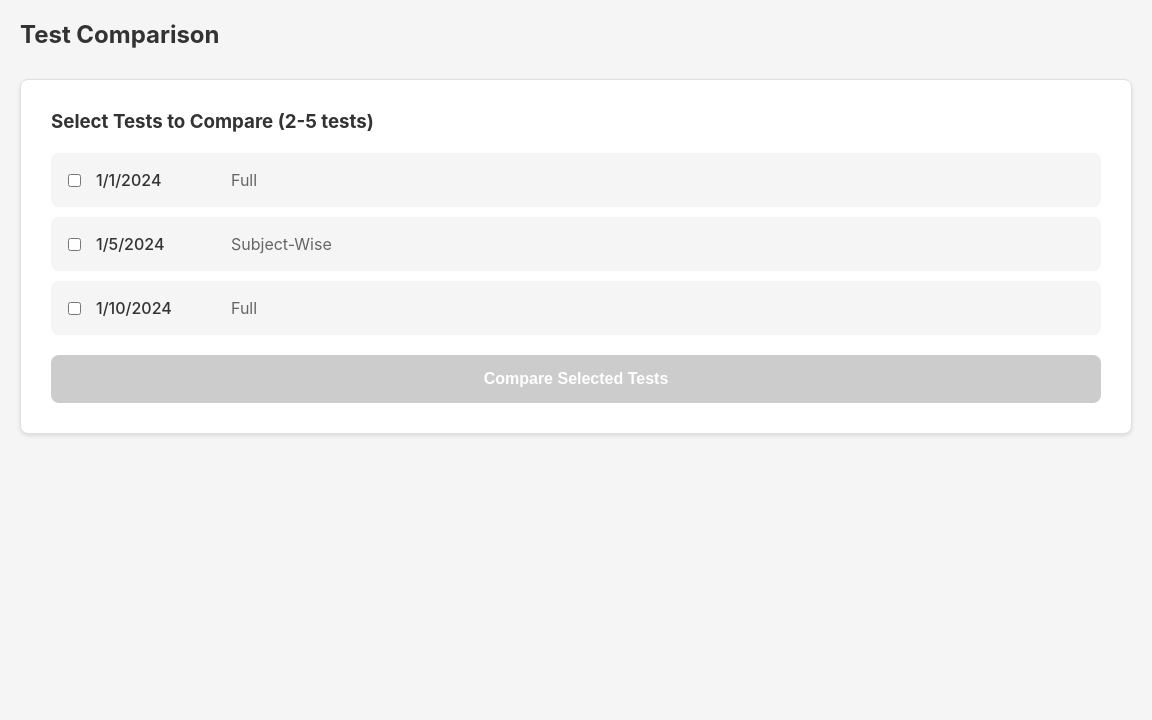
Test: ComparisonView › displays comparison results after comparing tests
The width and height of the screenshot is (1152, 720).
Click the checkbox next to "1/1/2024". click: [74, 180]
box: x1=68 y1=174 x2=81 y2=186
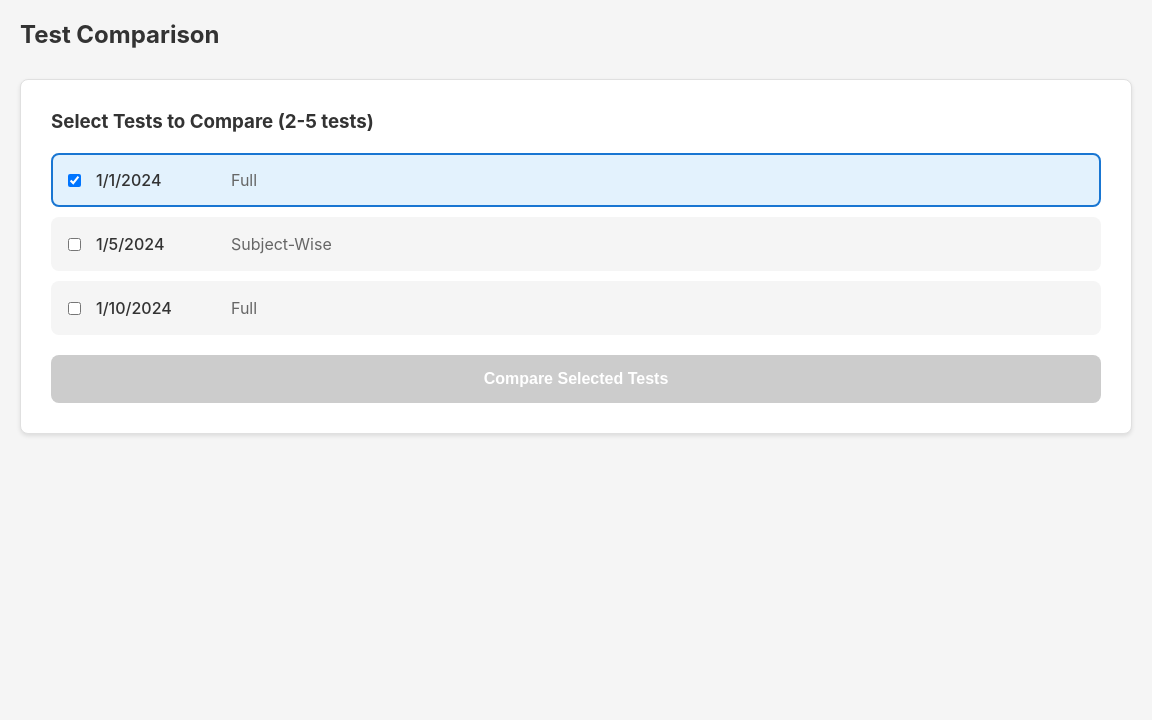
Click the checkbox next to "1/5/2024". click: [74, 244]
box: x1=68 y1=238 x2=81 y2=250
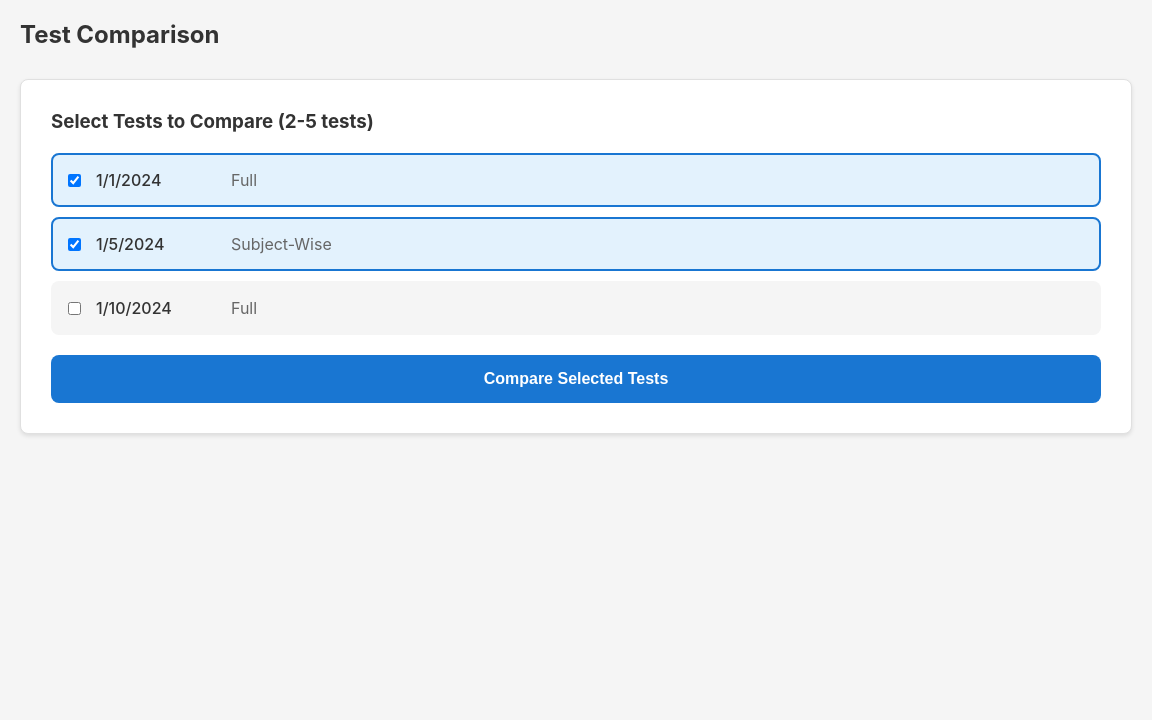
Click the button "Compare Selected Tests". click: [576, 379]
box: x1=51 y1=355 x2=1101 y2=403
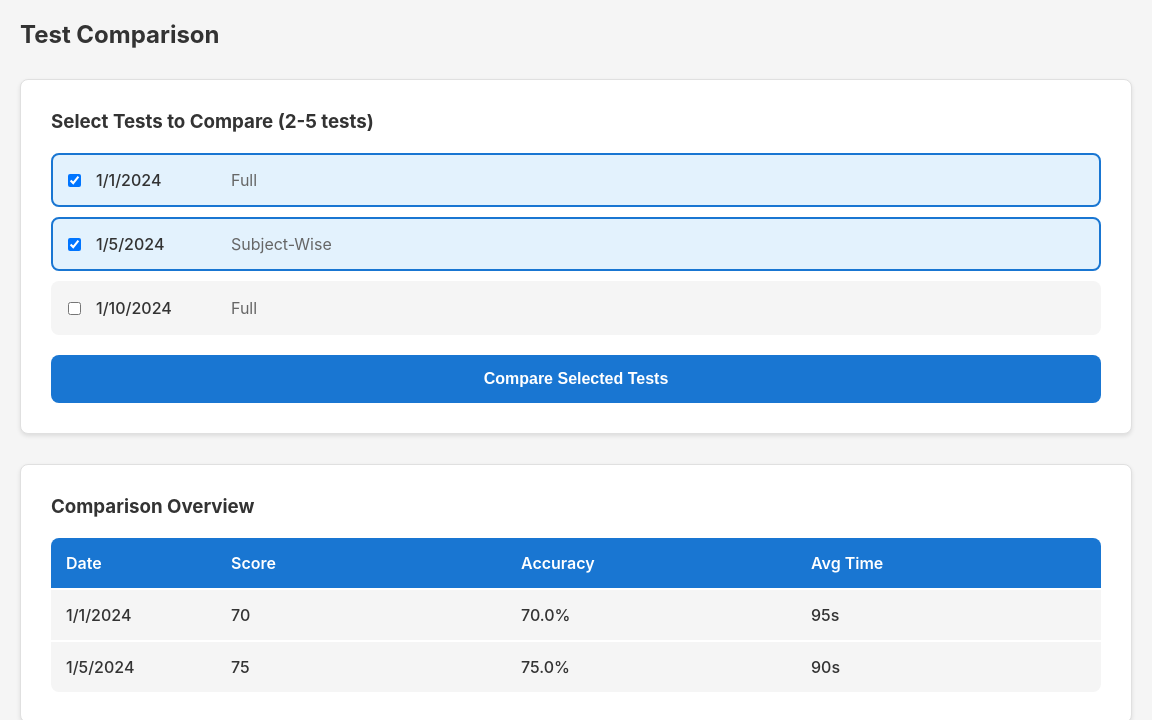
Check: the heading "Comparison Overview" is shown, box x1=51 y1=495 x2=254 y2=518
